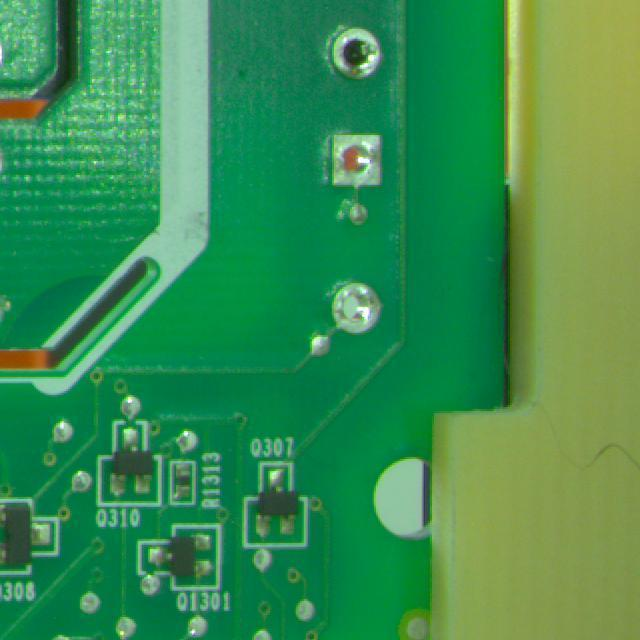Insufficient solder: (322, 123, 386, 194), (325, 22, 384, 83), (332, 278, 381, 347)
